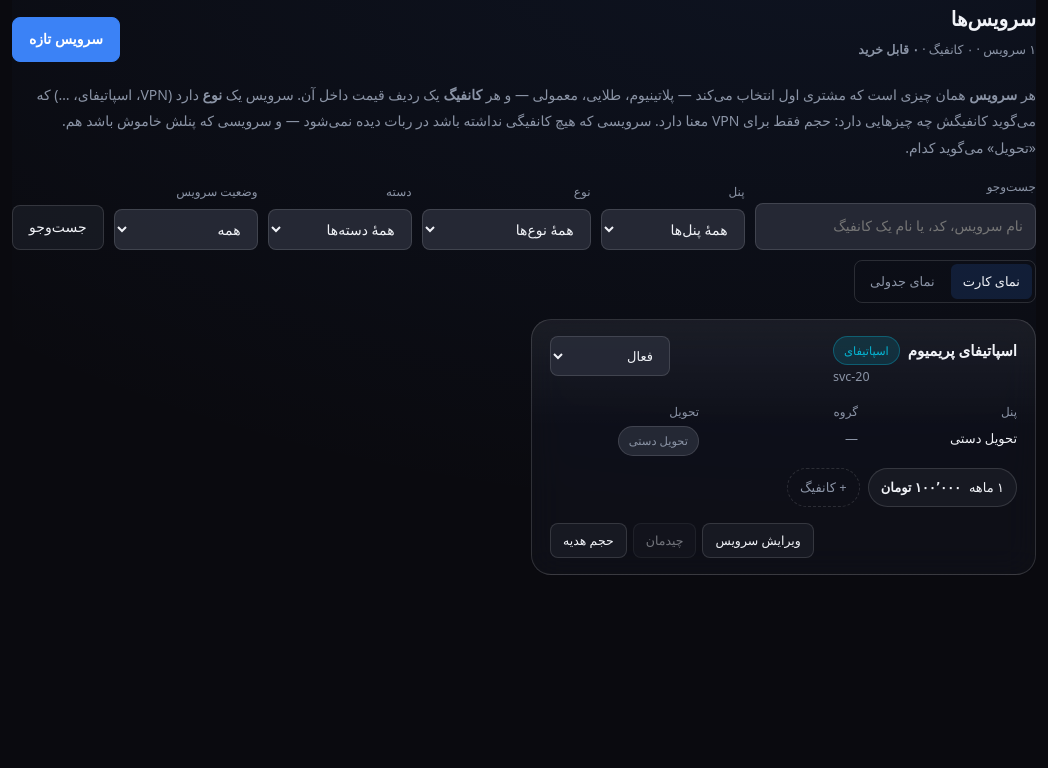
Test: a delivery route that has no groups › asks a Spotify config for a duration and seats, never for gigabytes
Expected: the text "svc-20" is shown, 833,368 -> 870,386
Click the button "+ کانفیگ": click(823, 487) 787,468 -> 860,506
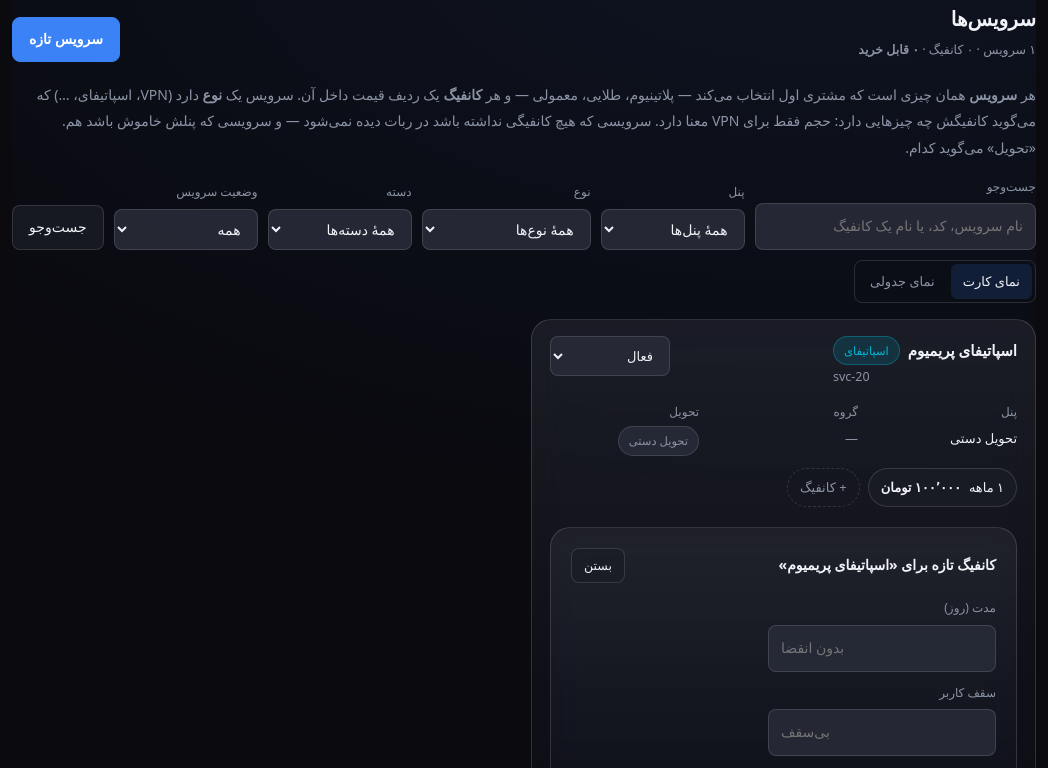
Result: the number field labelled "مدت (روز)" is shown at 768,625 -> 996,672
Result: the number field labelled "سقف کاربر" is shown at 768,710 -> 996,756
